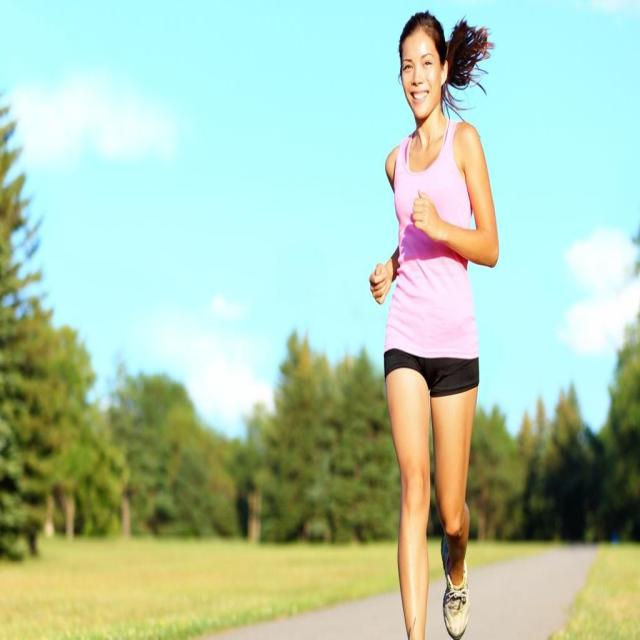Face: (400, 30, 446, 124)
